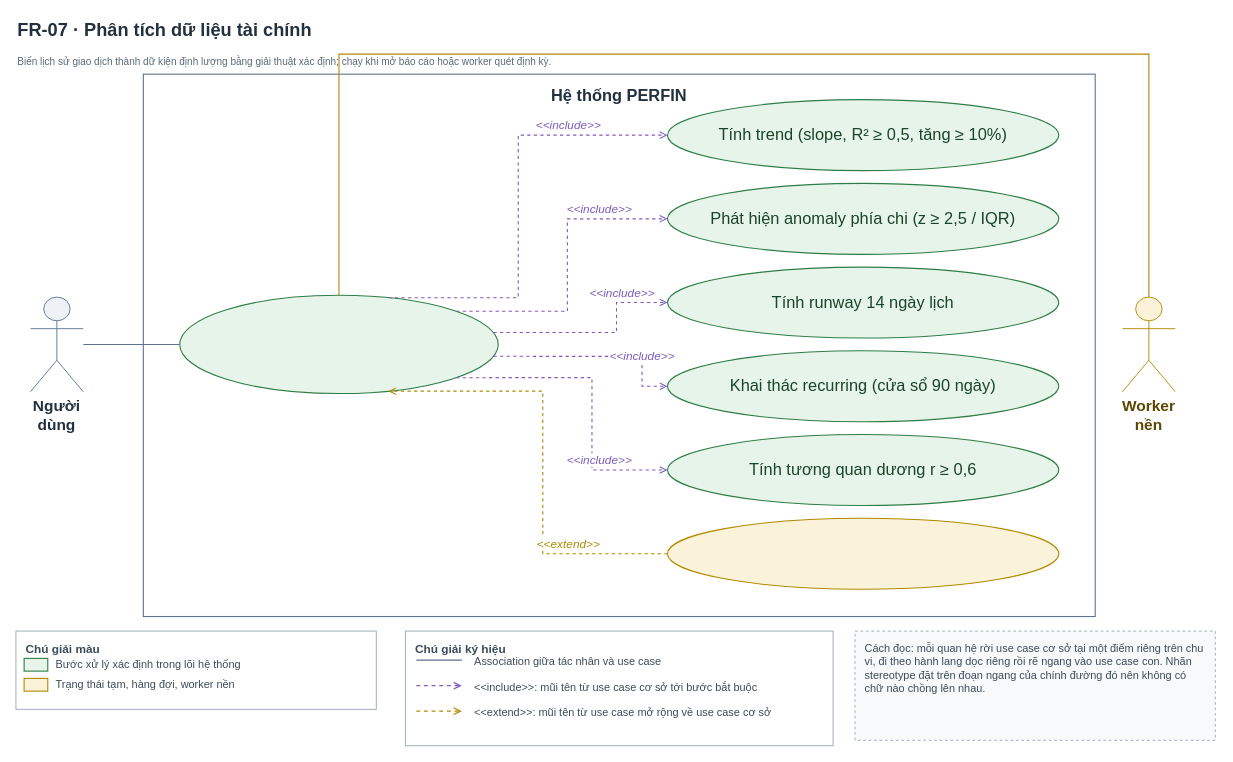
This 1233x762 diagram has some shape labels left out. Here are the shapes that lost their labels. From the top down, the centre of each, then its label:
At (338,344): "Phân tích dữ liệu tài chính".
At (862,553): "Ghi degraded_components và trả null khi thiếu dữ liệu".
